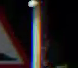Speed Breaker ahead: (0, 18, 28, 67)
